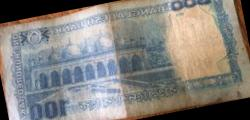100 taka: (3, 14, 247, 118)
